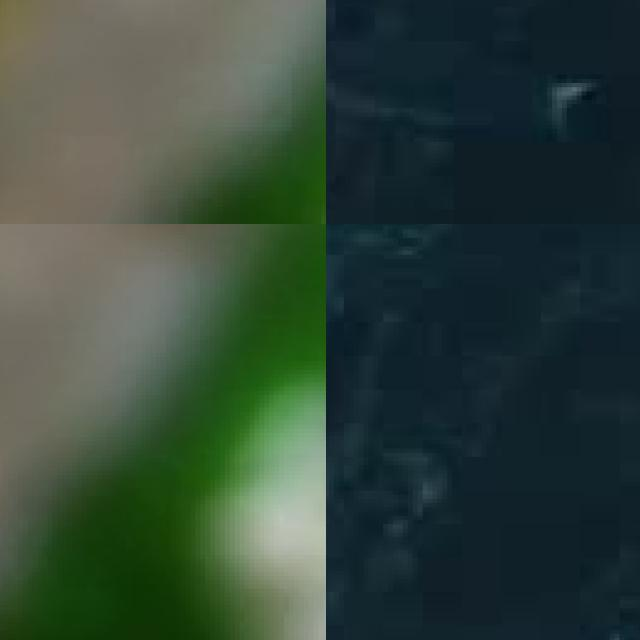fish: (0, 224, 326, 640), (0, 0, 326, 224)
